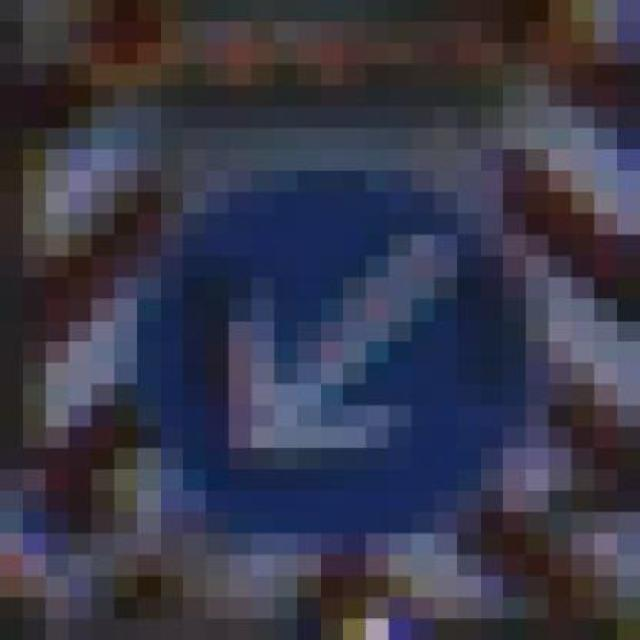Keep-Left: (114, 129, 572, 576)
